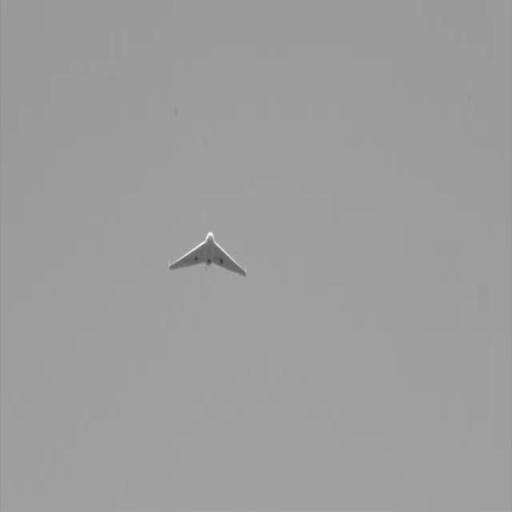uav: (164, 226, 252, 286)
